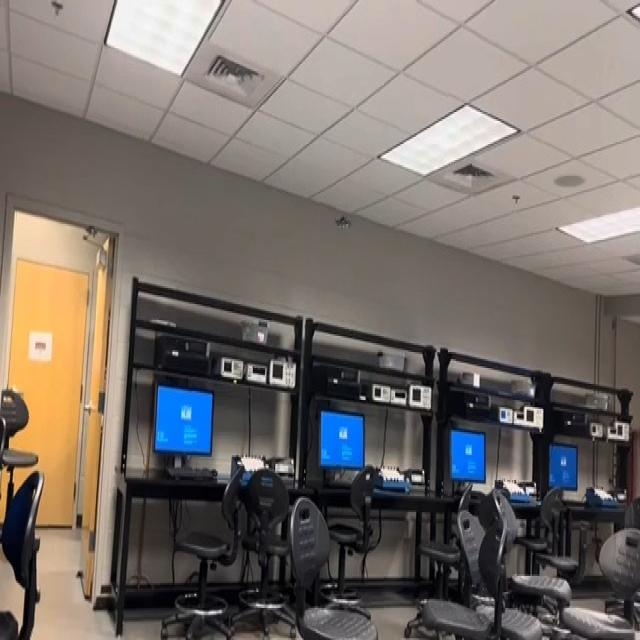drone: (330, 201, 356, 238)
